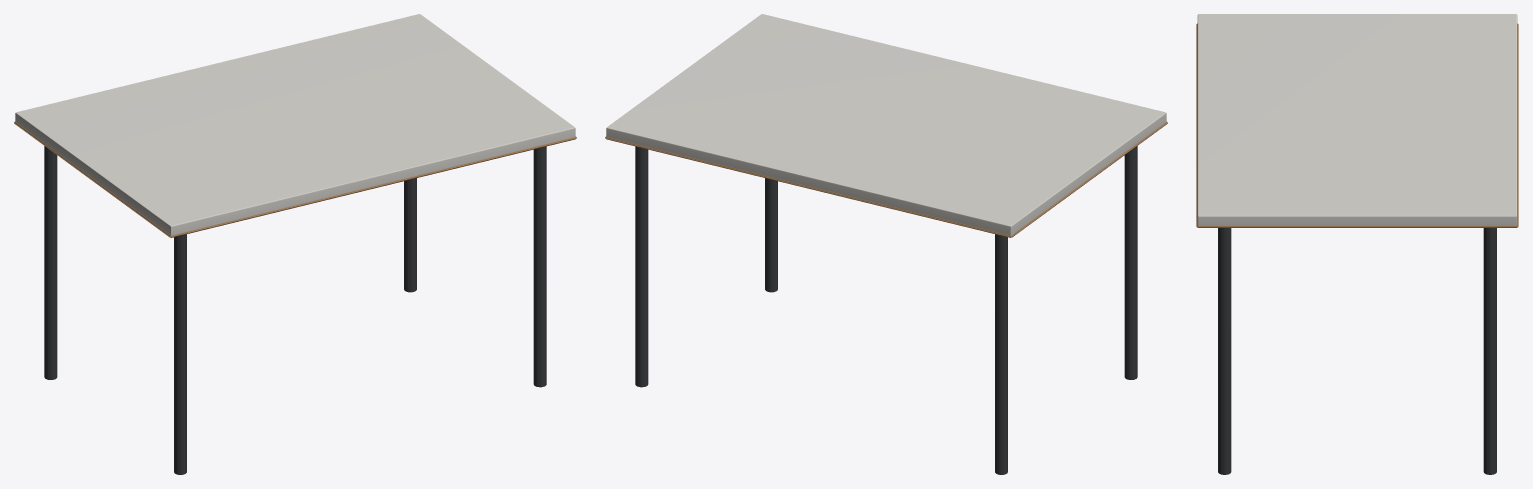
Rendered from prop_table_break.glb.
3 views of the same model, side by side, from view 1: azimuth 30°, elevation 25°; view 2: azimuth 150°, elevation 25°; view 3: azimuth 270°, elevation 25° (orthographic). The views are drawn at different scales.
Parts seen in each view (by area): view 1: Table; view 2: Table; view 3: Table.
Boxes of the visible parts, x1,y1,x2,y2 form: Table: [14, 14, 576, 474]; Table: [605, 14, 1167, 474]; Table: [1196, 14, 1518, 474].
Size of what is drawn, in the model's own units: 1.21 by 0.74 by 0.8066.
